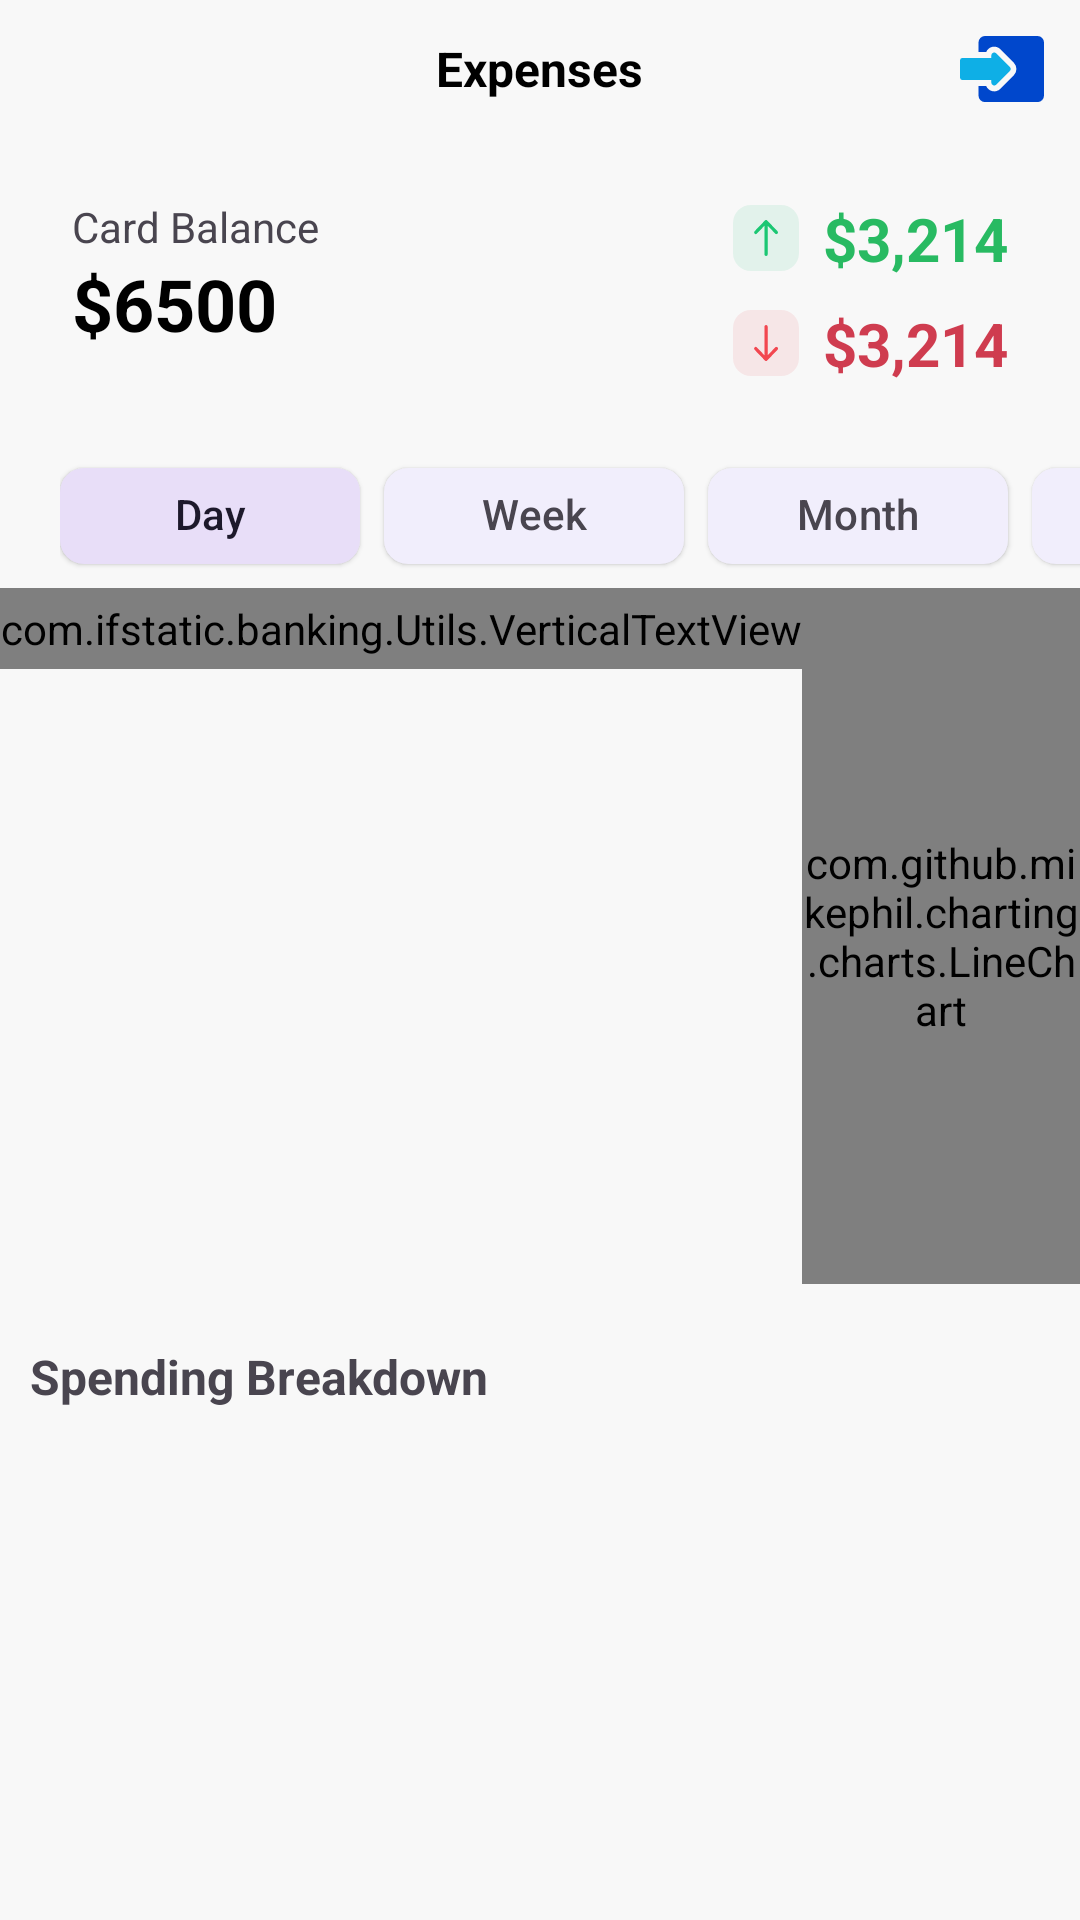

Where icons sit on this 1080w x 1920h app screen, as box(x1, y1, x2, y2):
export: box(960, 36, 1044, 102)
